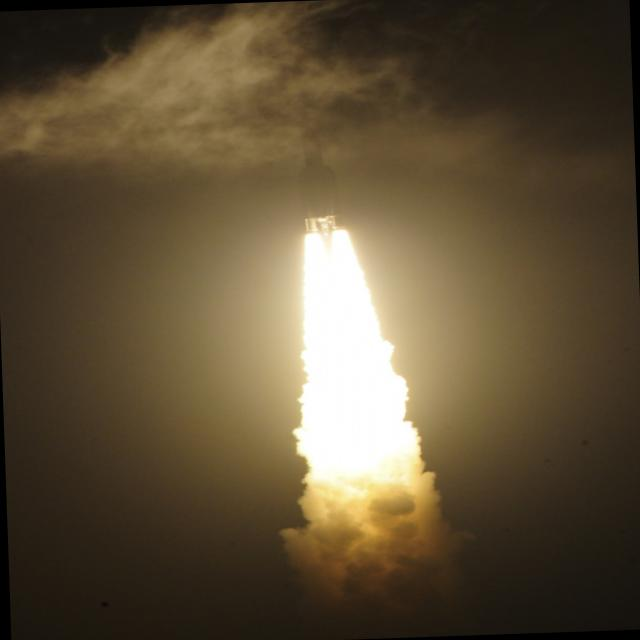rocket: (292, 119, 393, 431)
